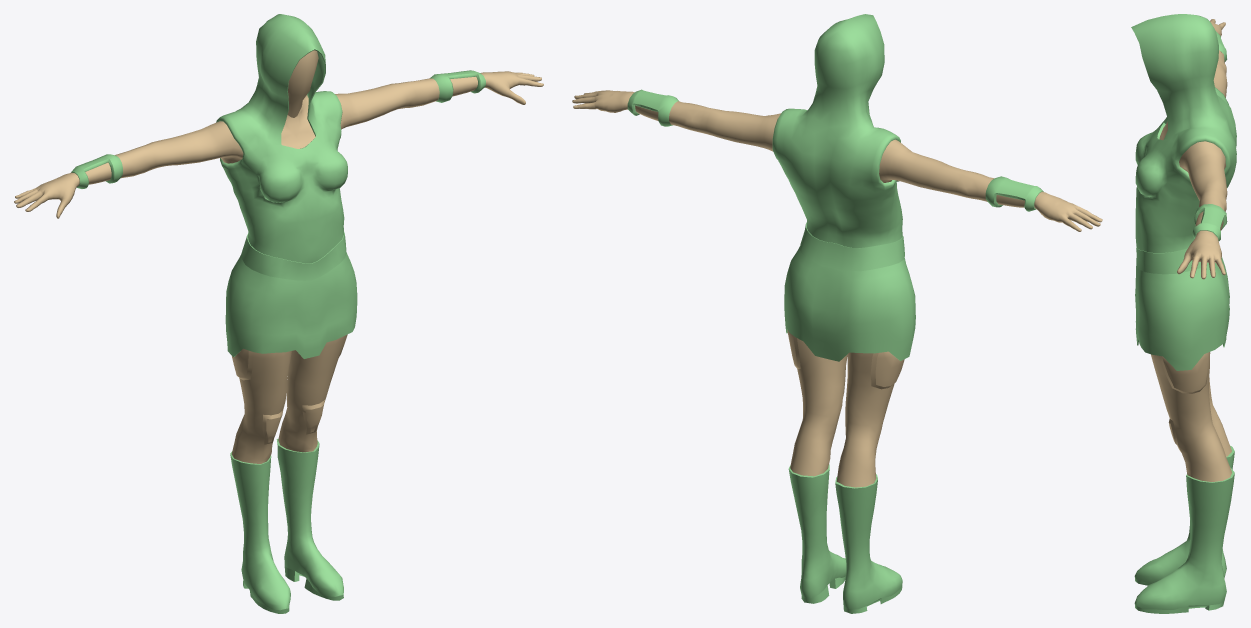
The model's file is FemaleMorph.FBX.
3 renders of one model, left to right at view 1: azimuth 30°, elevation 25°; view 2: azimuth 150°, elevation 25°; view 3: azimuth 270°, elevation 25°, orthographic.
Visible parts, largest first — view 1: Vest, Clothes; view 2: Vest, Clothes; view 3: Vest, Clothes.
Part boxes in pixels (x1=…): Vest: x1=71, y1=14, x2=485, y2=613; Clothes: x1=14, y1=50, x2=543, y2=463; Vest: x1=627, y1=14, x2=1043, y2=613; Clothes: x1=572, y1=90, x2=1102, y2=487; Vest: x1=1131, y1=14, x2=1236, y2=613; Clothes: x1=1151, y1=19, x2=1231, y2=481.
Bounding box in the file's own units: 169 × 176 × 29.06.
